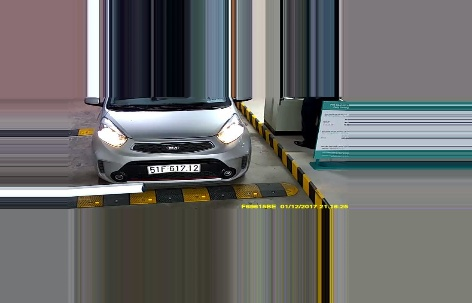plate: (145, 160, 202, 174)
